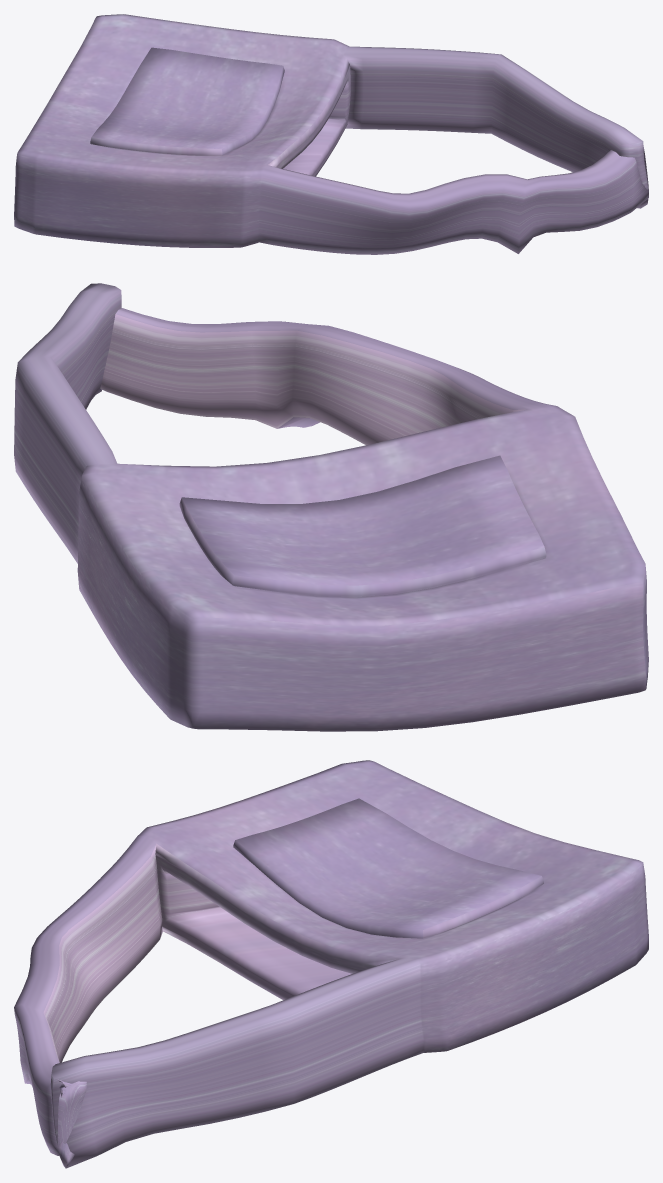
Rendered from sac_t 1.fbx.
The picture shows the model from 3 angles, top to bottom: view 1: azimuth 30°, elevation 25°; view 2: azimuth 150°, elevation 25°; view 3: azimuth 270°, elevation 25°; orthographic projection. The views are drawn at different scales.
Visible parts, largest first — view 1: sac; view 2: sac; view 3: sac.
Boxes of the visible parts, bbox=[...] form: sac: bbox=[14, 14, 648, 254]; sac: bbox=[14, 283, 648, 731]; sac: bbox=[14, 760, 648, 1168].
Bounding box in the file's own units: 39.48 × 7.72 × 34.52.
